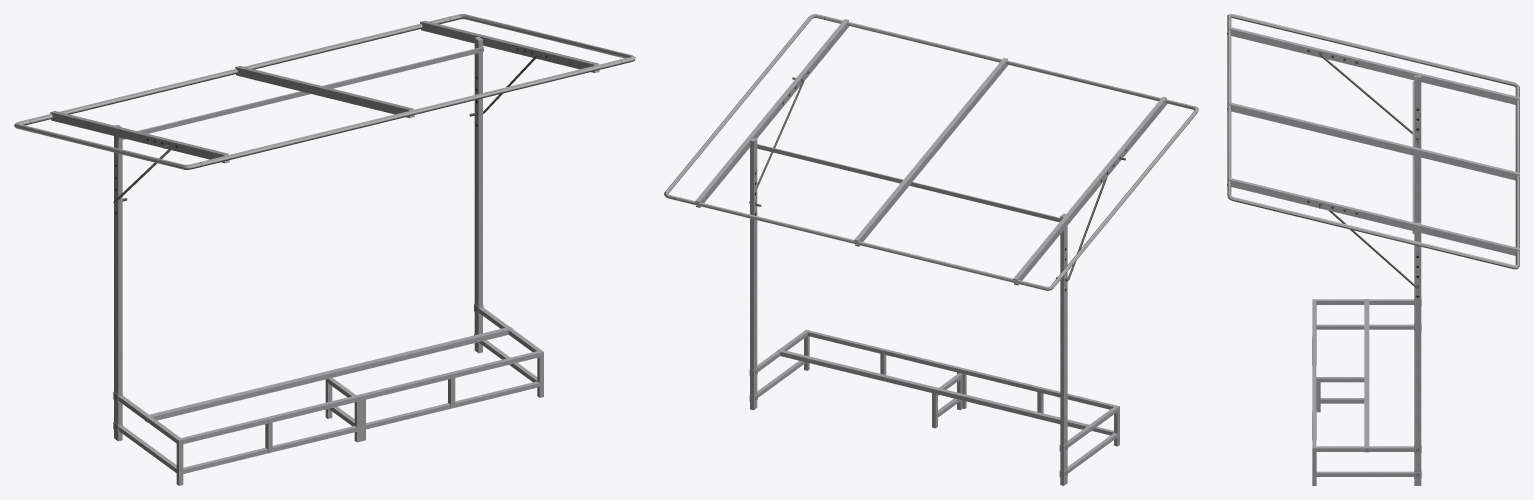
File: jsf_2P_s03_Leg02.fbx
3 views of the same model, side by side, from view 1: azimuth 30°, elevation 25°; view 2: azimuth 150°, elevation 25°; view 3: azimuth 270°, elevation 25° (orthographic). The views are drawn at different scales.
Parts seen in each view (by area): view 1: jsf_2P_s03_Leg02; view 2: jsf_2P_s03_Leg02; view 3: jsf_2P_s03_Leg02.
Boxes of the visible parts, x1,y1,x2,y2 form: jsf_2P_s03_Leg02: (14,14,635,485); jsf_2P_s03_Leg02: (664,14,1198,485); jsf_2P_s03_Leg02: (1227,14,1519,485).
Size of the model in its own units: 313 by 244 by 210.
